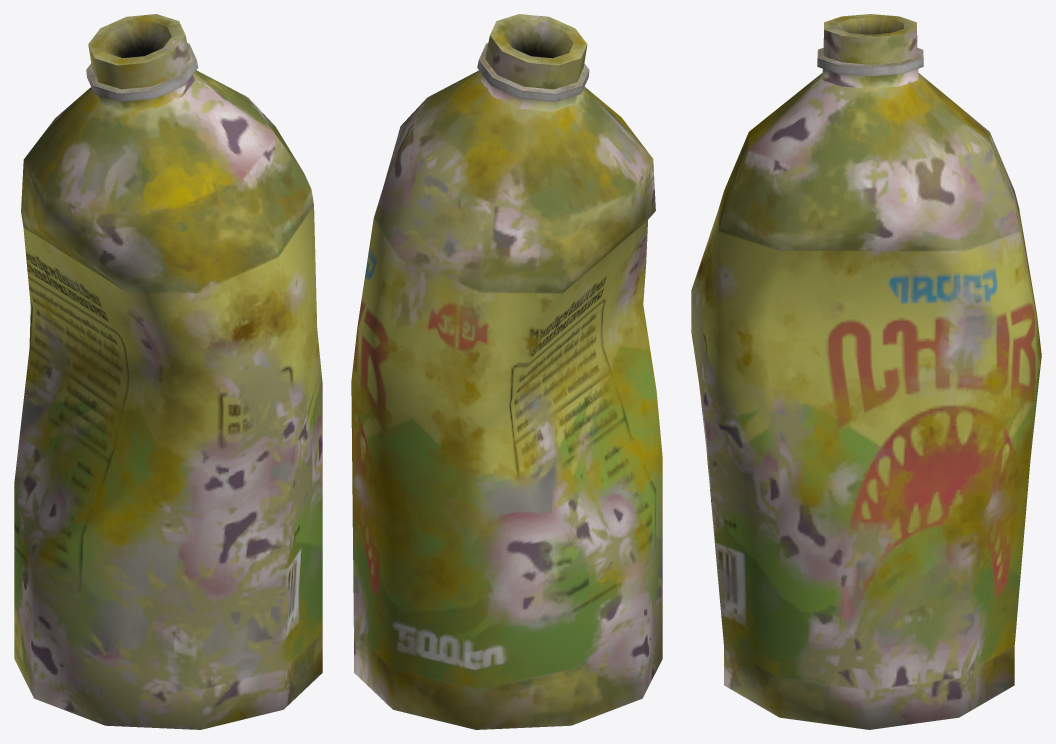
3 views of the same model, side by side, from view 1: azimuth 30°, elevation 25°; view 2: azimuth 150°, elevation 25°; view 3: azimuth 270°, elevation 25° (orthographic).
Visible parts, largest first — view 1: pCylinder15__Petbottle00; view 2: pCylinder15__Petbottle00; view 3: pCylinder15__Petbottle00.
Boxes of the visible parts, left/top/right/bottom form: pCylinder15__Petbottle00: left=14, top=14, right=322, bottom=729; pCylinder15__Petbottle00: left=351, top=14, right=662, bottom=729; pCylinder15__Petbottle00: left=691, top=14, right=1041, bottom=729.
Bounding box in the file's own units: 0.4791 × 1.12 × 0.5494.
Materials: 1 (1 with a texture image).
